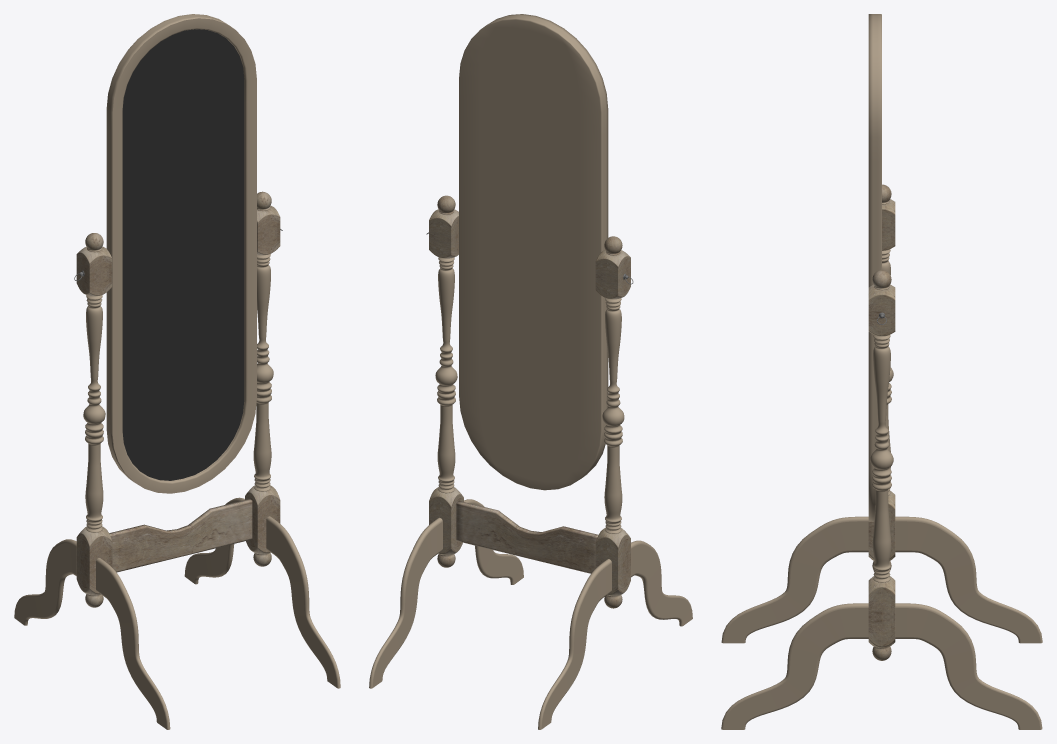
The picture shows the model from 3 angles, left to right: view 1: azimuth 30°, elevation 25°; view 2: azimuth 150°, elevation 25°; view 3: azimuth 270°, elevation 25°; orthographic projection. The views are drawn at different scales.
Parts seen in each view (by area): view 1: Specchio, Struttura; view 2: Struttura; view 3: Struttura.
Boxes of the visible parts, x1=… form: Specchio: x1=122, y1=29, x2=244, y2=480; Struttura: x1=14, y1=14, x2=340, y2=729; Struttura: x1=369, y1=14, x2=692, y2=729; Struttura: x1=721, y1=14, x2=1042, y2=729.
Size of the model in its own units: 55.7 by 164 by 71.86.
Materials: 3 (1 with a texture image).
